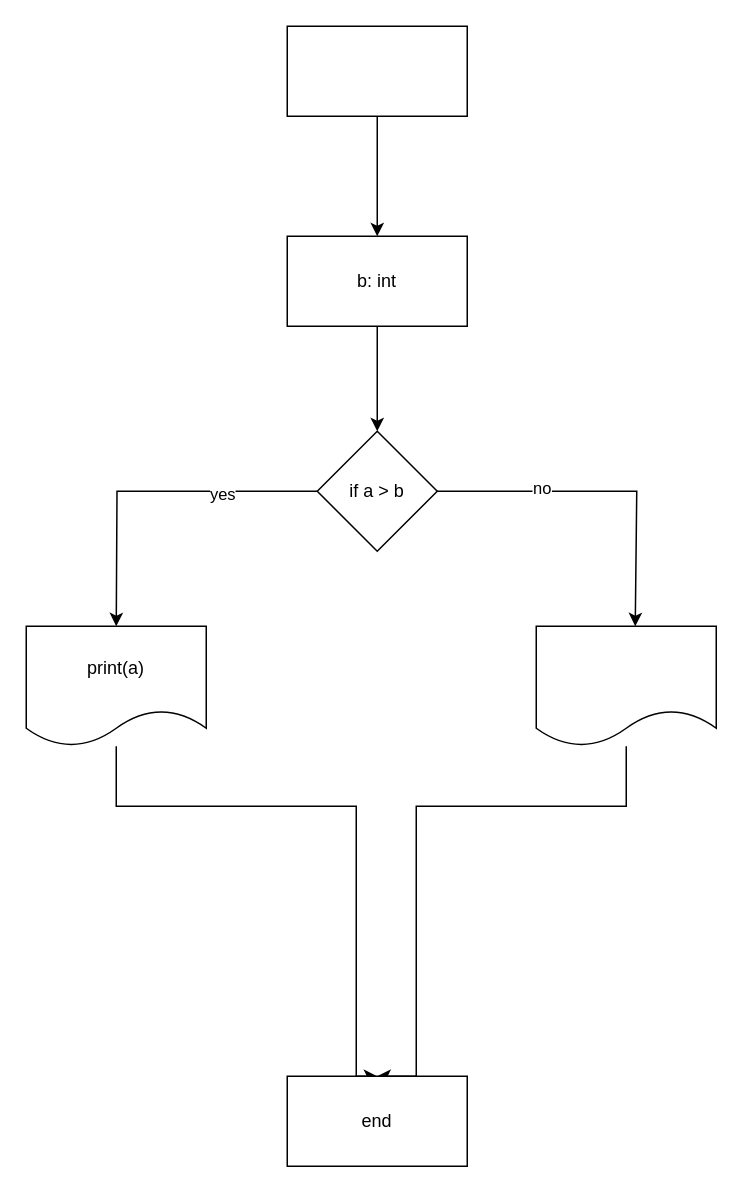
Some shapes in this 743 by 1193 pixel diagram are drawn without their labels. Here are the shapes that lost their labels. From the top down, the centre of each, then its label:
(x=376, y=70): a: int
(x=625, y=685): print(b)
